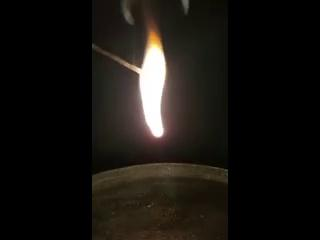Fire: (139, 26, 169, 142)
